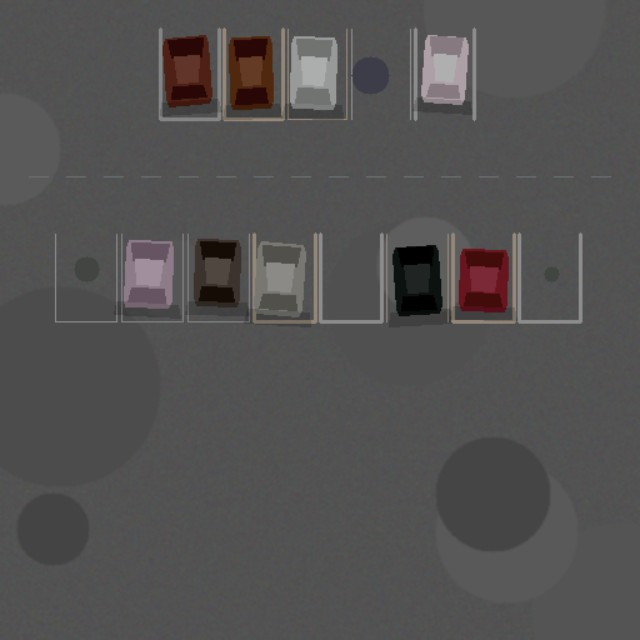space-empty: (351, 29, 410, 119), (55, 234, 116, 321), (320, 234, 381, 321), (519, 234, 580, 321)
space-occupied: (121, 234, 183, 321), (187, 234, 249, 321), (160, 29, 219, 119), (224, 29, 283, 119), (287, 29, 346, 119), (415, 29, 474, 119), (254, 234, 315, 321), (386, 234, 447, 321), (453, 234, 514, 321)
